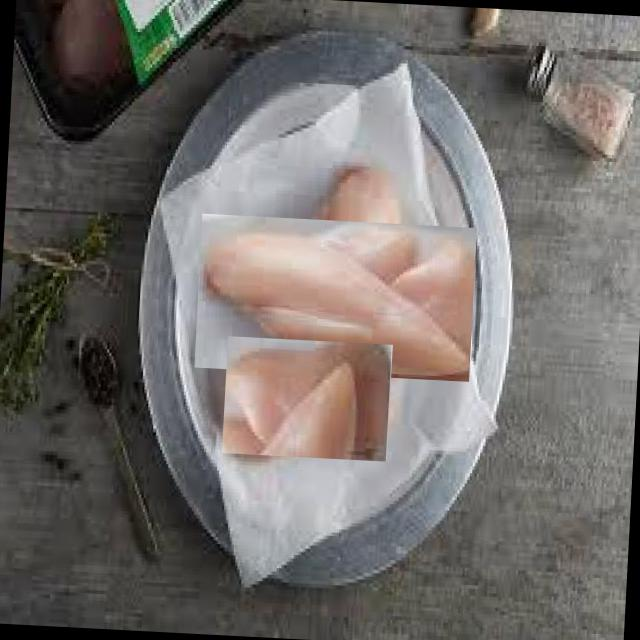chicken: (223, 185, 449, 411), (222, 336, 393, 462)
